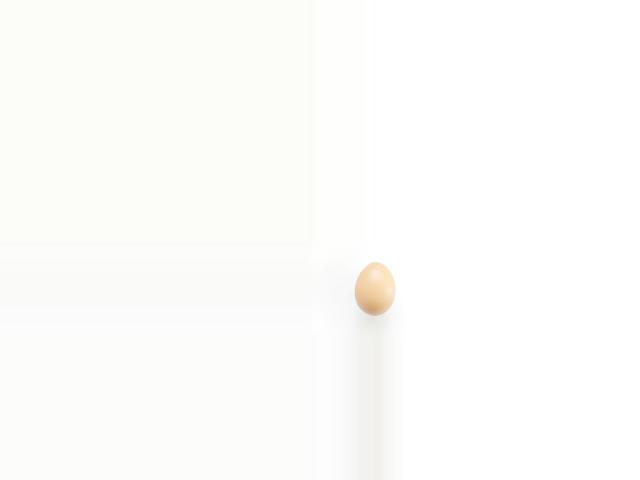egg: (353, 261, 394, 316)
